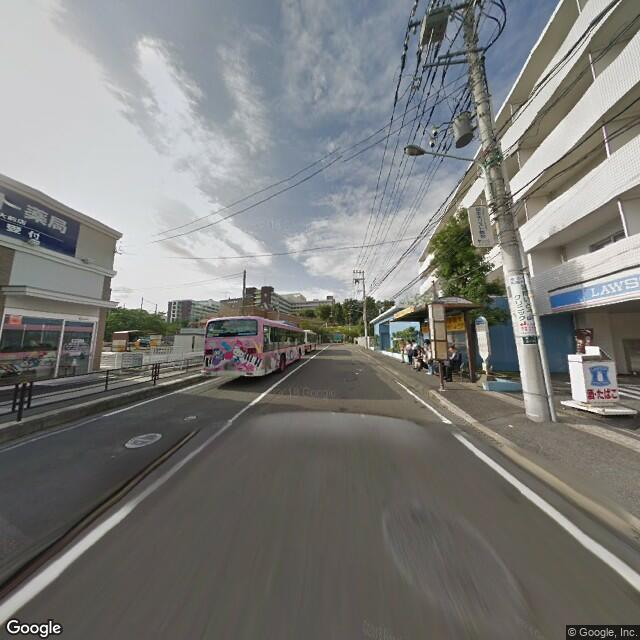lawson: (547, 266, 639, 314), (584, 361, 613, 395)
